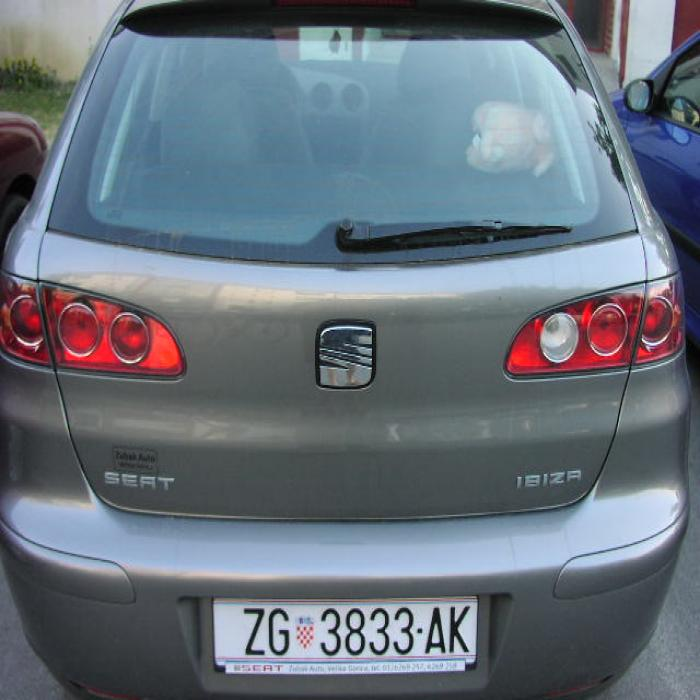number_plate: (213, 601, 474, 659)
